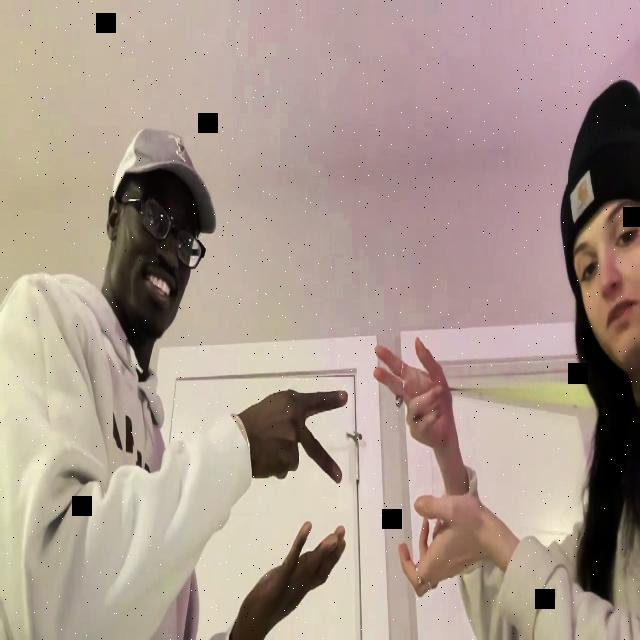Scissors: (248, 388, 348, 484), (372, 336, 452, 454)
